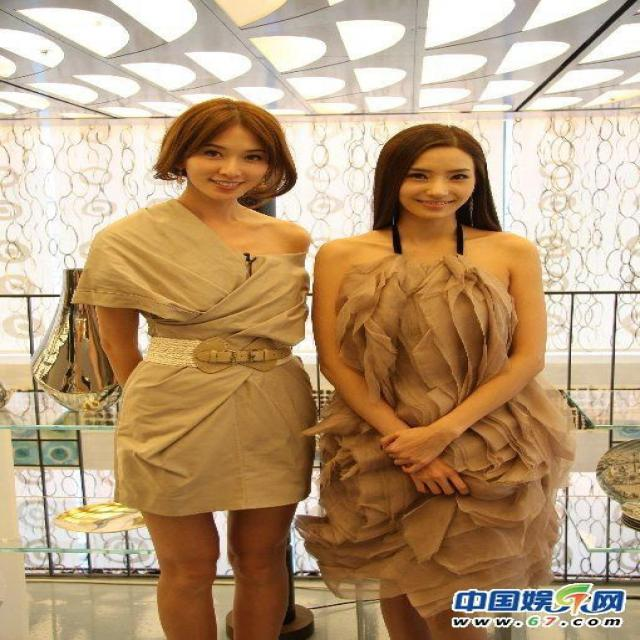Manusia: (31, 86, 332, 640), (312, 122, 584, 640)
